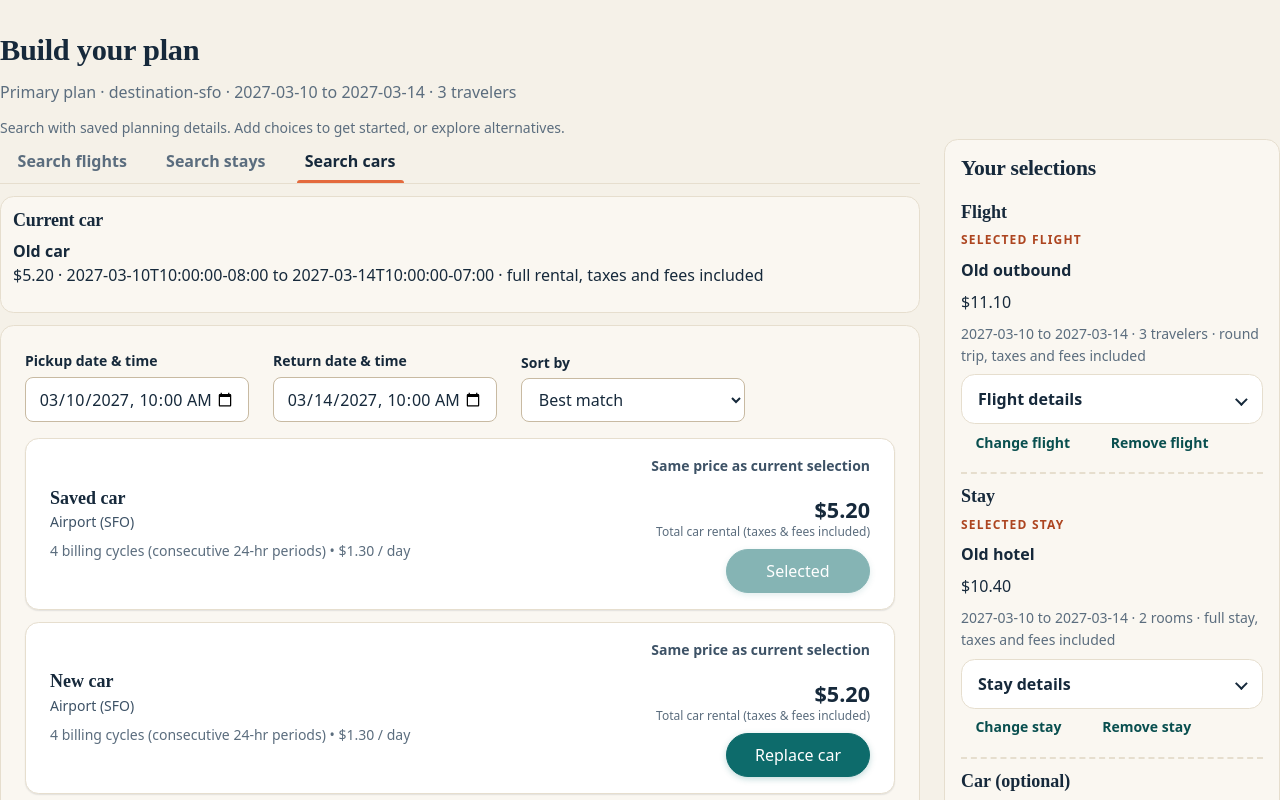
selected search results first › pins saved cars while preserving alternative order after sort changes
Expected: the button "Selected" is disabled, [726, 549, 870, 593]
Expected: the element that starts with "New car" is shown, [50, 672, 114, 692]
Select "Lowest price" in the dropdown labelled "Sort by" at (633,400), box [521, 378, 745, 422]
(page scrolled)
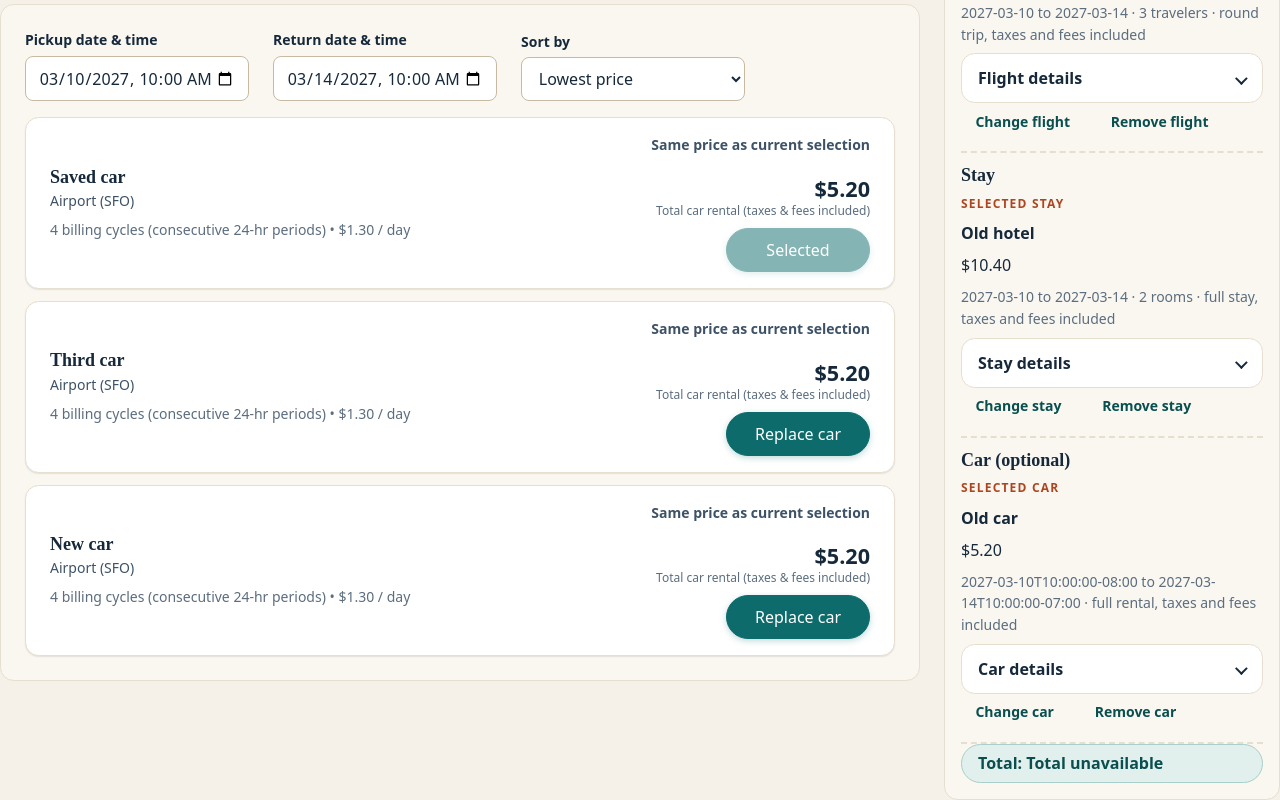
Expected: the button "Selected" is shown, [726, 228, 870, 272]
Expected: the element that starts with "Third car" is shown, [50, 350, 124, 370]
Expected: the element that starts with "New car" is shown, [50, 534, 114, 554]
